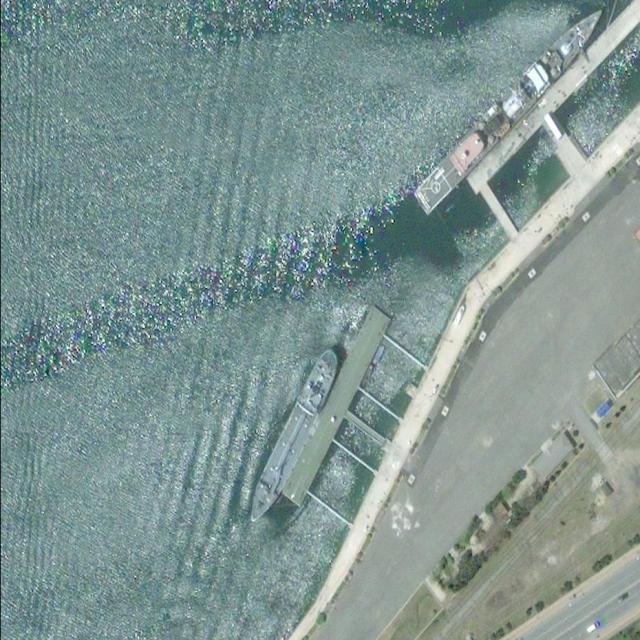Destroyer: (409, 4, 612, 213)
Landing: (241, 343, 343, 528)
